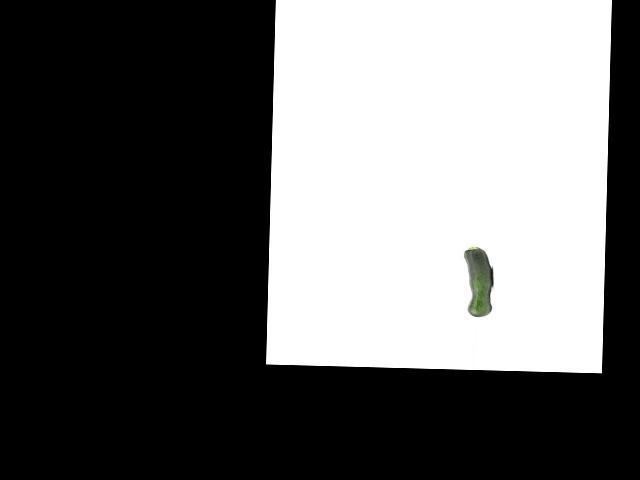cucumber: (462, 246, 493, 316)
